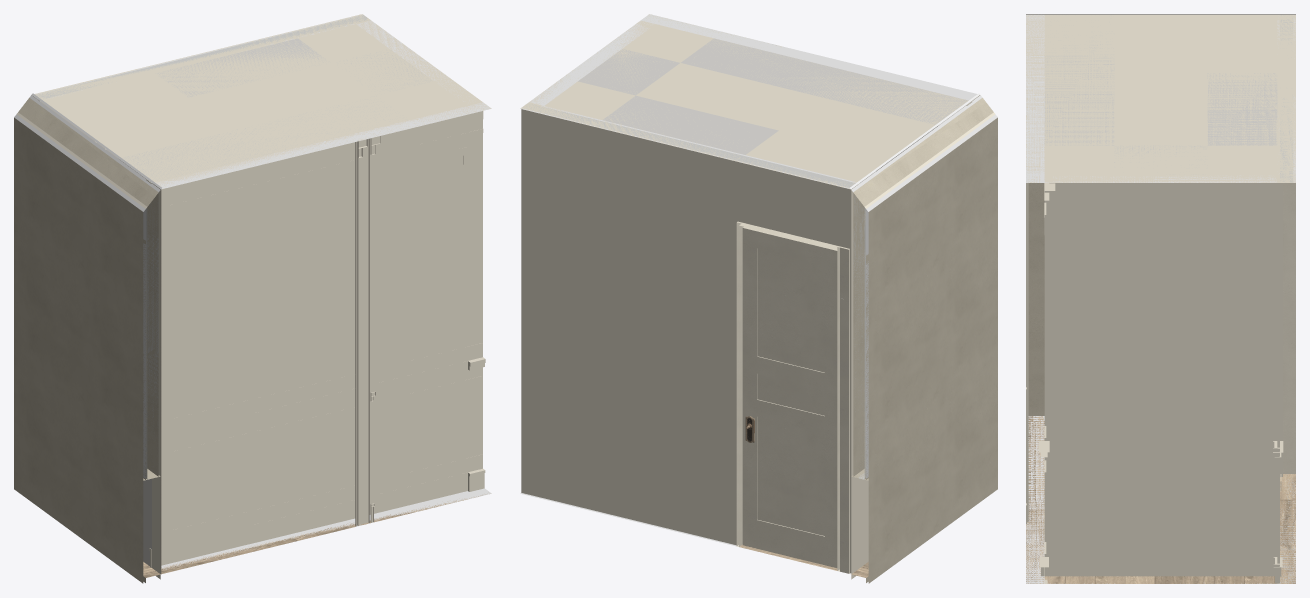
File: upstairs-closet-west-68a388ef9bff.glb
The picture shows the model from 3 angles, left to right: view 1: azimuth 30°, elevation 25°; view 2: azimuth 150°, elevation 25°; view 3: azimuth 270°, elevation 25°; orthographic projection. The views are drawn at different scales.
Parts seen in each view (by area): view 1: upstairs-closet-west-6e269356ae8bfd70, upstairs-closet-west-9d91b47435c6fb33, upstairs-closet-west-312b4ac1be39223d, upstairs-closet-west-33ee0b466567e5f0, upstairs-closet-west-ed5fdcd3ee9c0dd5, upstairs-closet-west-39b94aca90fa4b53, upstairs-closet-west-3a4d9d62ecd7be1c, upstairs-closet-west-414385708a06acff, upstairs-closet-west-06754748489735a0, upstairs-closet-west-6a4a24524a86ae48, upstairs-closet-west-b63ee86b16afd4c0, upstairs-closet-west-1e3385c37a14aaf6 (+9 smaller); view 2: upstairs-closet-west-eb02897c2e79e2b1, upstairs-closet-west-312b4ac1be39223d, upstairs-closet-west-7406100458e293ce, upstairs-closet-west-9d91b47435c6fb33, upstairs-closet-west-33ee0b466567e5f0, upstairs-closet-west-242740a07d2af182, upstairs-closet-west-6a4a24524a86ae48, upstairs-closet-west-3a4d9d62ecd7be1c, upstairs-closet-west-39b94aca90fa4b53, upstairs-closet-west-442e5a19ed849720, upstairs-closet-west-4fe731a8ba1c3bde, upstairs-closet-west-6e269356ae8bfd70 (+3 smaller); view 3: upstairs-closet-west-af27112094daa34f, upstairs-closet-west-9d91b47435c6fb33, upstairs-closet-west-6e269356ae8bfd70, upstairs-closet-west-2575515a05775d9e, upstairs-closet-west-6a4a24524a86ae48, upstairs-closet-west-442e5a19ed849720, upstairs-closet-west-242740a07d2af182, upstairs-closet-west-7f77ce4796f35946, upstairs-closet-west-eb02897c2e79e2b1, upstairs-closet-west-ed5fdcd3ee9c0dd5, upstairs-closet-west-72fcfe59ea86eabd.
Boxes of the visible parts, x1=… form: upstairs-closet-west-6e269356ae8bfd70: x1=152, y1=102, x2=491, y2=573; upstairs-closet-west-9d91b47435c6fb33: x1=31, y1=14, x2=491, y2=188; upstairs-closet-west-312b4ac1be39223d: x1=14, y1=114, x2=145, y2=480; upstairs-closet-west-33ee0b466567e5f0: x1=14, y1=386, x2=160, y2=583; upstairs-closet-west-ed5fdcd3ee9c0dd5: x1=355, y1=138, x2=369, y2=526; upstairs-closet-west-39b94aca90fa4b53: x1=18, y1=98, x2=158, y2=479; upstairs-closet-west-3a4d9d62ecd7be1c: x1=29, y1=95, x2=160, y2=476; upstairs-closet-west-414385708a06acff: x1=149, y1=469, x2=478, y2=567; upstairs-closet-west-06754748489735a0: x1=165, y1=160, x2=355, y2=424; upstairs-closet-west-6a4a24524a86ae48: x1=155, y1=38, x2=329, y2=97; upstairs-closet-west-b63ee86b16afd4c0: x1=165, y1=407, x2=355, y2=535; upstairs-closet-west-1e3385c37a14aaf6: x1=249, y1=358, x2=479, y2=422; upstairs-closet-west-eb02897c2e79e2b1: x1=520, y1=103, x2=859, y2=574; upstairs-closet-west-312b4ac1be39223d: x1=866, y1=114, x2=997, y2=480; upstairs-closet-west-7406100458e293ce: x1=742, y1=226, x2=837, y2=567; upstairs-closet-west-9d91b47435c6fb33: x1=520, y1=14, x2=980, y2=189; upstairs-closet-west-33ee0b466567e5f0: x1=851, y1=386, x2=997, y2=583; upstairs-closet-west-242740a07d2af182: x1=681, y1=38, x2=971, y2=130; upstairs-closet-west-6a4a24524a86ae48: x1=602, y1=95, x2=778, y2=154; upstairs-closet-west-3a4d9d62ecd7be1c: x1=851, y1=95, x2=982, y2=476; upstairs-closet-west-39b94aca90fa4b53: x1=853, y1=98, x2=993, y2=479; upstairs-closet-west-442e5a19ed849720: x1=736, y1=221, x2=840, y2=571; upstairs-closet-west-4fe731a8ba1c3bde: x1=840, y1=246, x2=849, y2=573; upstairs-closet-west-6e269356ae8bfd70: x1=641, y1=14, x2=979, y2=100; upstairs-closet-west-af27112094daa34f: x1=1044, y1=175, x2=1277, y2=583; upstairs-closet-west-9d91b47435c6fb33: x1=1026, y1=14, x2=1295, y2=182; upstairs-closet-west-6e269356ae8bfd70: x1=1026, y1=14, x2=1044, y2=583; upstairs-closet-west-2575515a05775d9e: x1=1026, y1=416, x2=1295, y2=583; upstairs-closet-west-6a4a24524a86ae48: x1=1207, y1=73, x2=1277, y2=145; upstairs-closet-west-442e5a19ed849720: x1=1283, y1=183, x2=1295, y2=473; upstairs-closet-west-242740a07d2af182: x1=1044, y1=21, x2=1114, y2=145; upstairs-closet-west-7f77ce4796f35946: x1=1044, y1=215, x2=1277, y2=235; upstairs-closet-west-eb02897c2e79e2b1: x1=1277, y1=15, x2=1295, y2=583; upstairs-closet-west-ed5fdcd3ee9c0dd5: x1=1026, y1=183, x2=1028, y2=521; upstairs-closet-west-72fcfe59ea86eabd: x1=1280, y1=183, x2=1282, y2=476.
Bounding box in the file's own units: 2.74 × 2.95 × 1.77.
22 materials, 3 textured.
